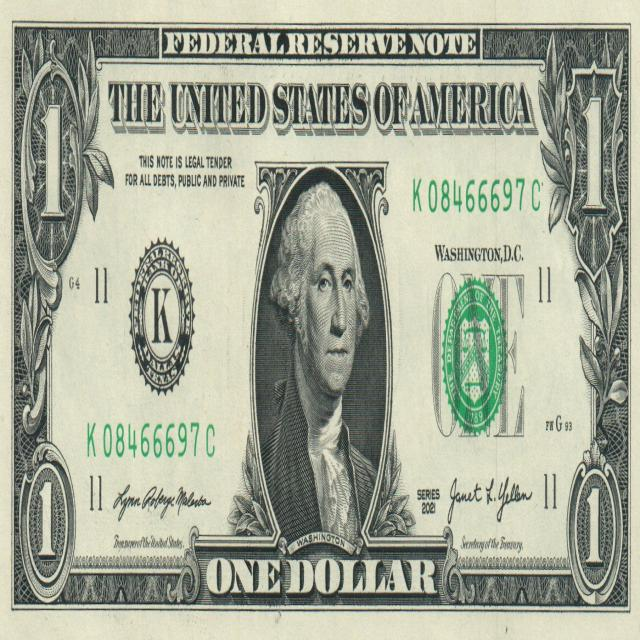SerialNumber: (413, 178, 541, 213), (88, 422, 200, 458)
